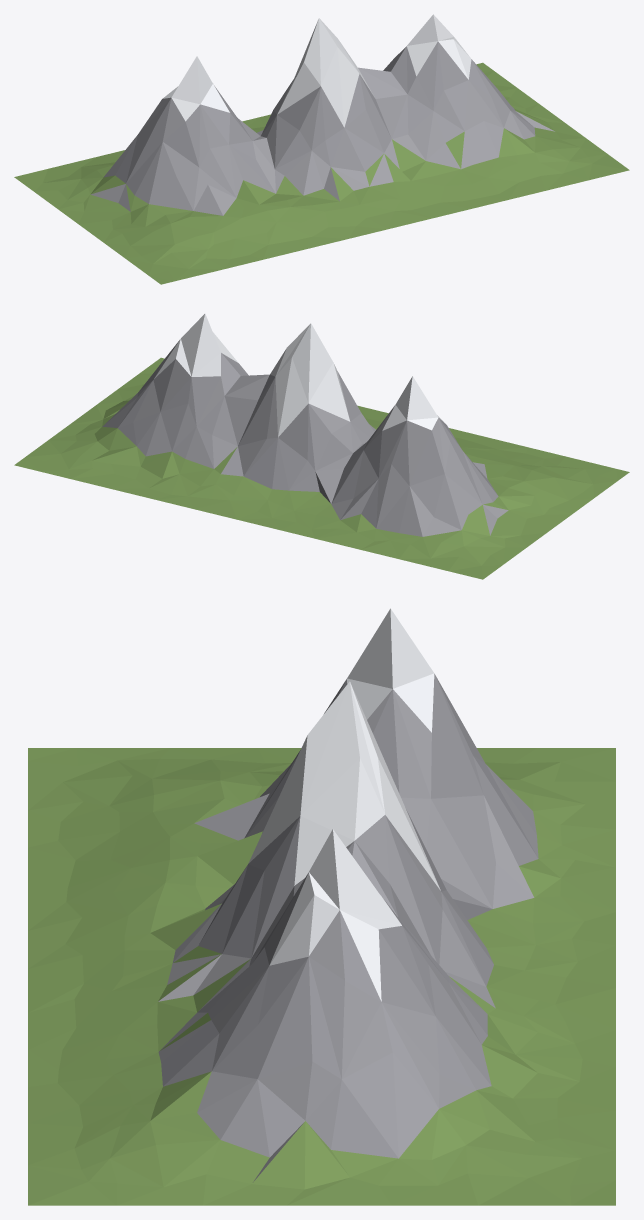
Rendered from RangeB.fbx.
3 renders of one model, top to bottom at view 1: azimuth 30°, elevation 25°; view 2: azimuth 150°, elevation 25°; view 3: azimuth 270°, elevation 25°, orthographic. The views are drawn at different scales.
Parts seen in each view (by area): view 1: RangeB_Grass, RangeB_Rock, RangeB_Snow; view 2: RangeB_Rock, RangeB_Grass, RangeB_Snow; view 3: RangeB_Grass, RangeB_Rock, RangeB_Snow.
Boxes of the visible parts, x1,y1,x2,y2 form: RangeB_Grass: [14, 62, 629, 284]; RangeB_Rock: [91, 41, 554, 215]; RangeB_Snow: [162, 14, 471, 127]; RangeB_Rock: [102, 340, 508, 536]; RangeB_Grass: [14, 357, 629, 579]; RangeB_Snow: [154, 313, 444, 437]; RangeB_Grass: [28, 748, 615, 1205]; RangeB_Rock: [158, 673, 538, 1182]; RangeB_Snow: [248, 608, 440, 1001].
Bounding box in the file's own units: 700 × 214 × 380.
